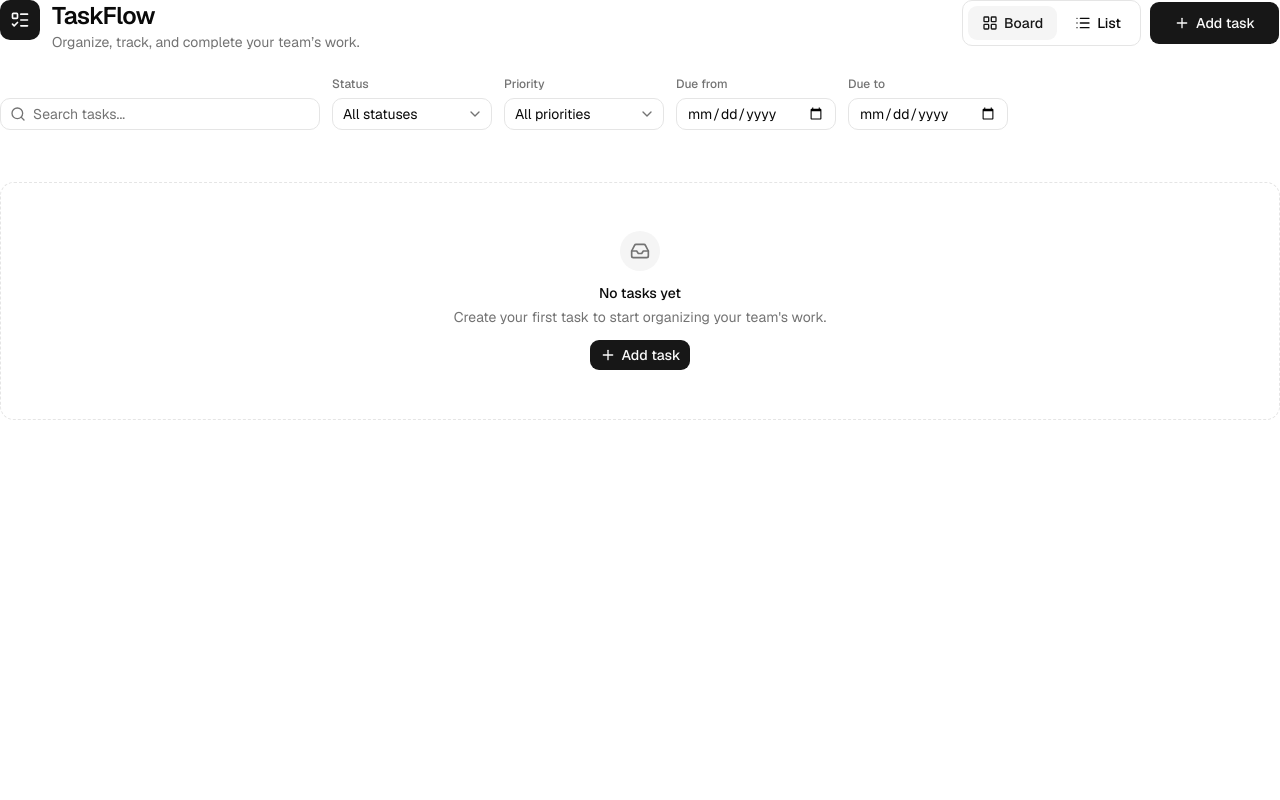
Test: creating a task › blocks submission when the title is empty
Click the button "Add task" in the row of "TaskFlow".
click(1214, 23)  # box [1149,1,1279,45]
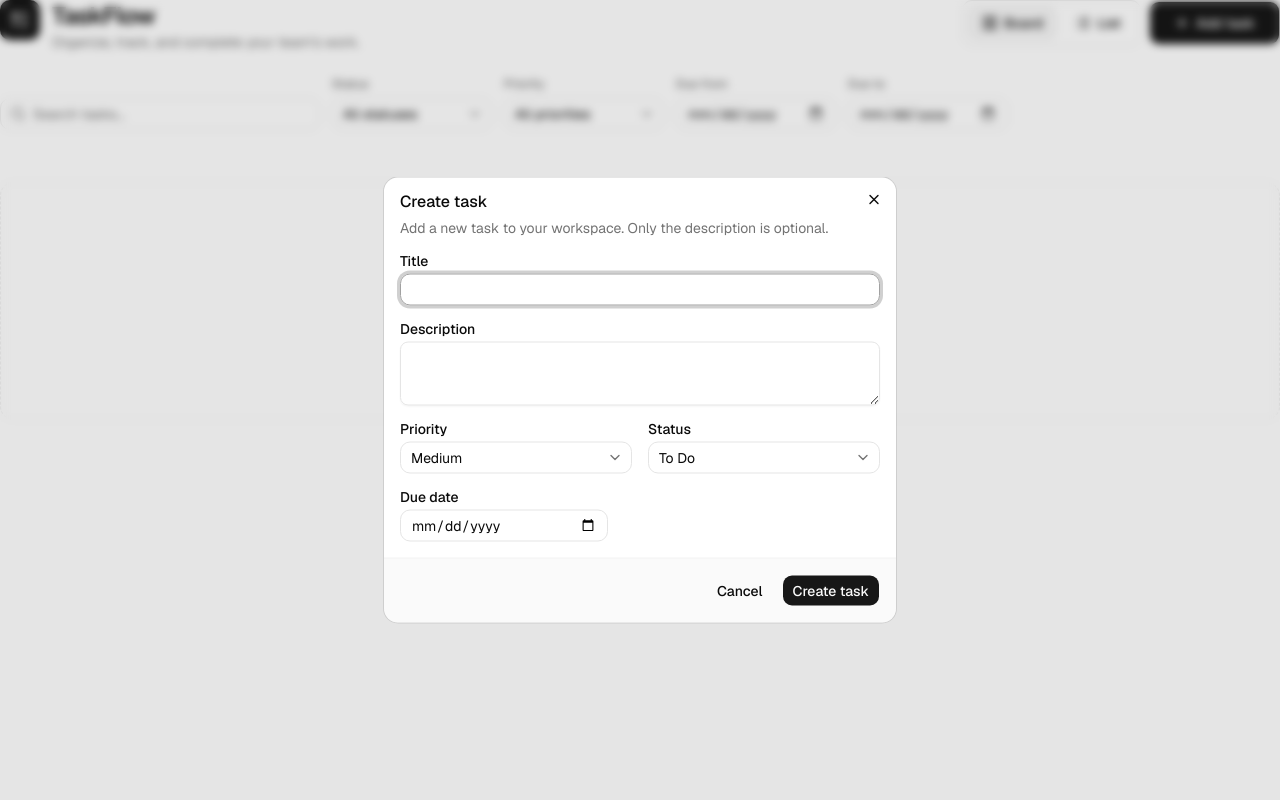
Click the button "Create task".
click(831, 590)  # box [782,574,880,606]
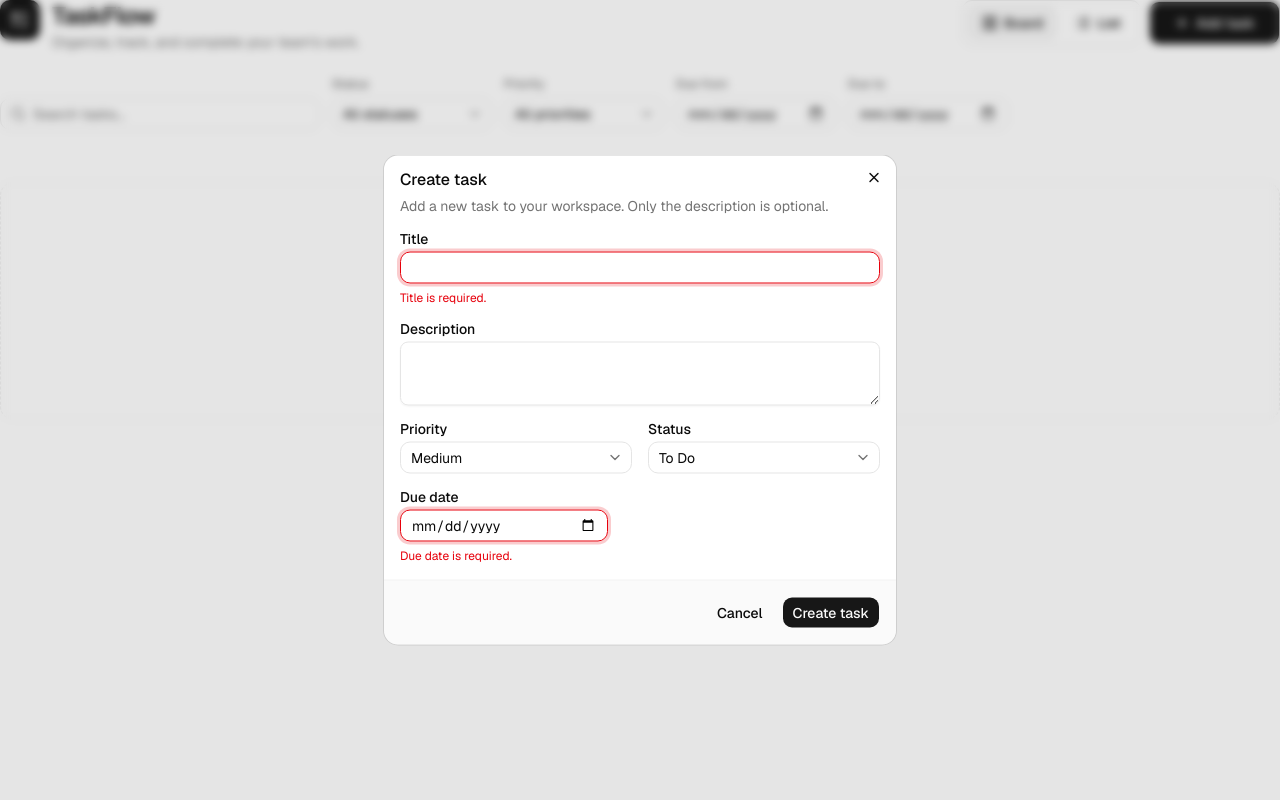
Expected: the text "Title is required." is shown, [400,290,486,306]
